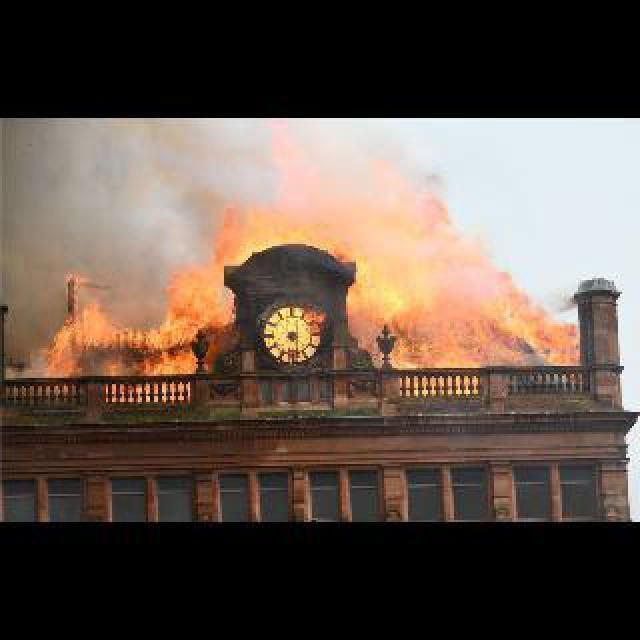Fire: (36, 154, 576, 384)
